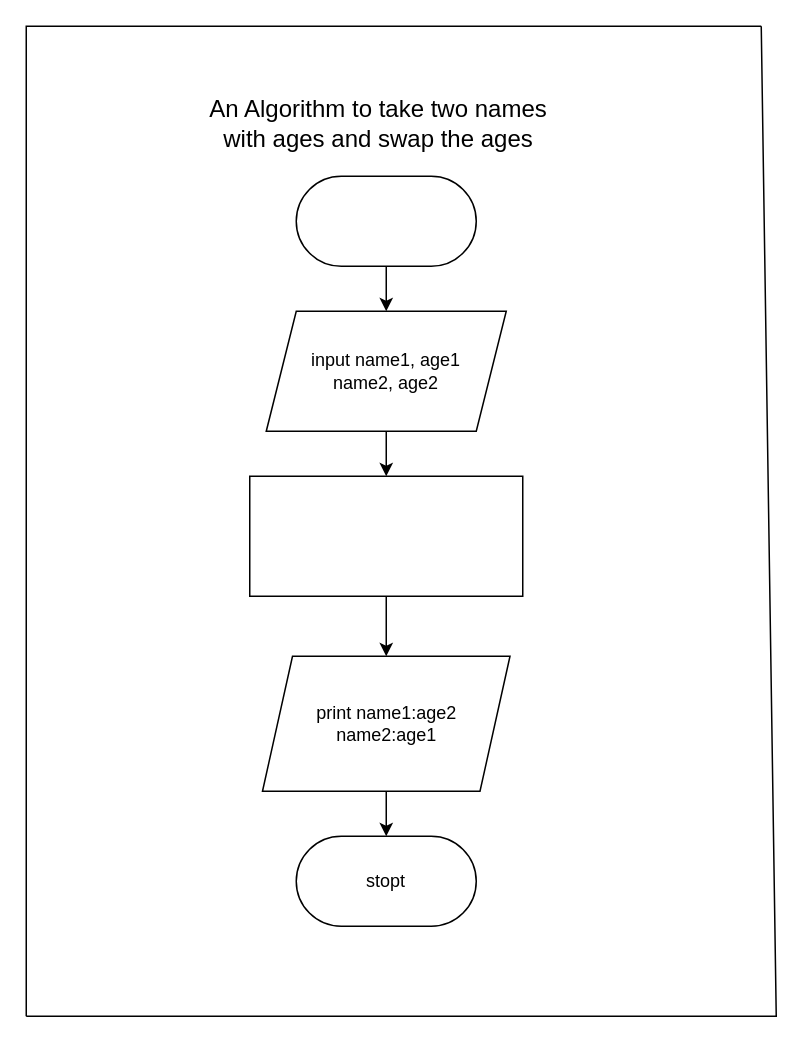
Image size: 804x1044. Some labels were removed from this diagram. Here are the shapes that lost their labels. From the top down, the centre of each, then its label:
At [385,220]: "start".
At [385,535]: "map name1 to age2, name2 to age1".
